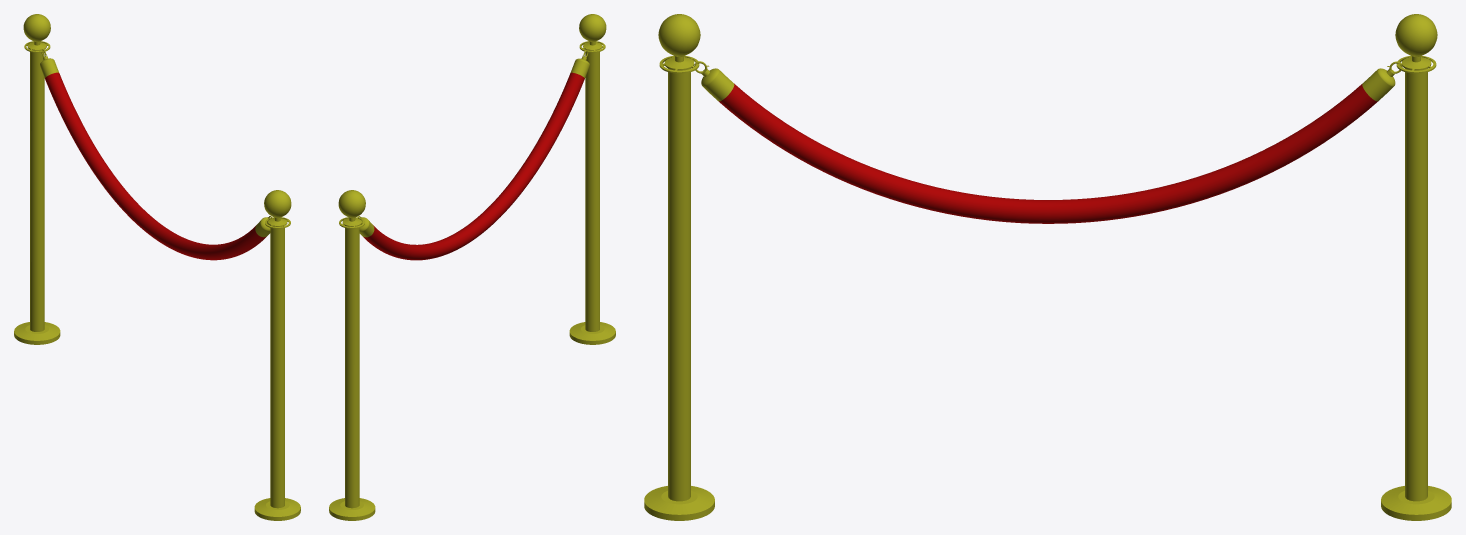
The model's file is RopeGuardSingle.fbx.
3 renders of one model, left to right at view 1: azimuth 30°, elevation 25°; view 2: azimuth 150°, elevation 25°; view 3: azimuth 270°, elevation 25°, orthographic. The views are drawn at different scales.
Visible parts, largest first — view 1: pCylinder18; view 2: pCylinder18; view 3: pCylinder18.
Part boxes in pixels (bbox=[...]): pCylinder18: bbox=[14, 14, 300, 520]; pCylinder18: bbox=[329, 14, 615, 520]; pCylinder18: bbox=[644, 14, 1451, 520].
Size of the model in its own units: 1.87 by 14.31 by 21.38.
